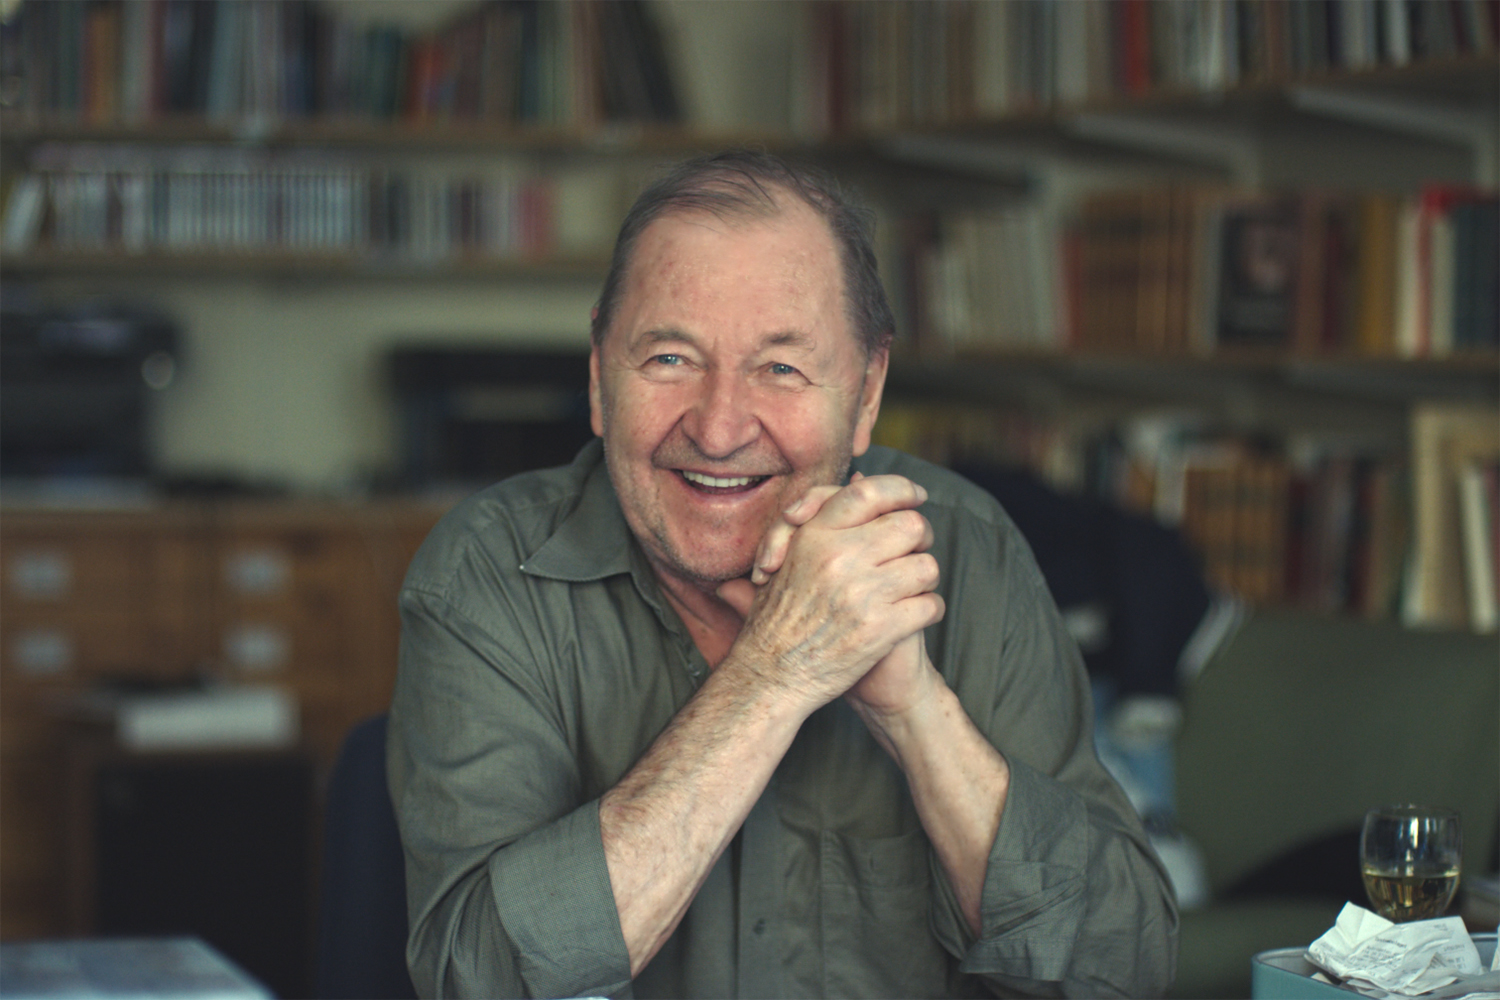human: (377, 142, 1206, 1000)
